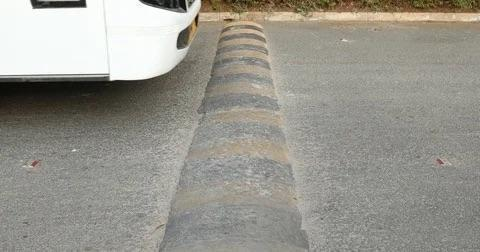speedbreaker: (208, 19, 298, 248)
